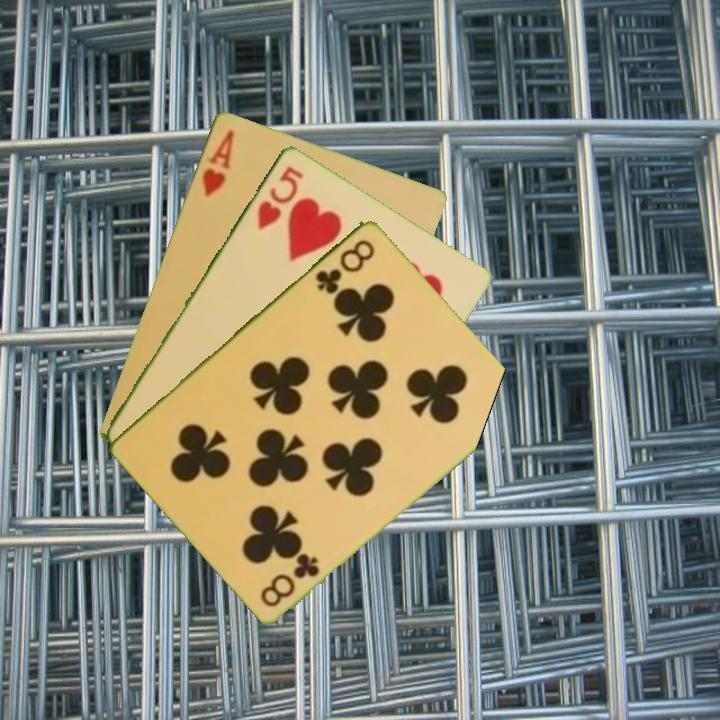5h: (253, 162, 307, 232)
8c: (311, 235, 378, 297), (257, 549, 323, 609)
Ah: (198, 125, 237, 199)
